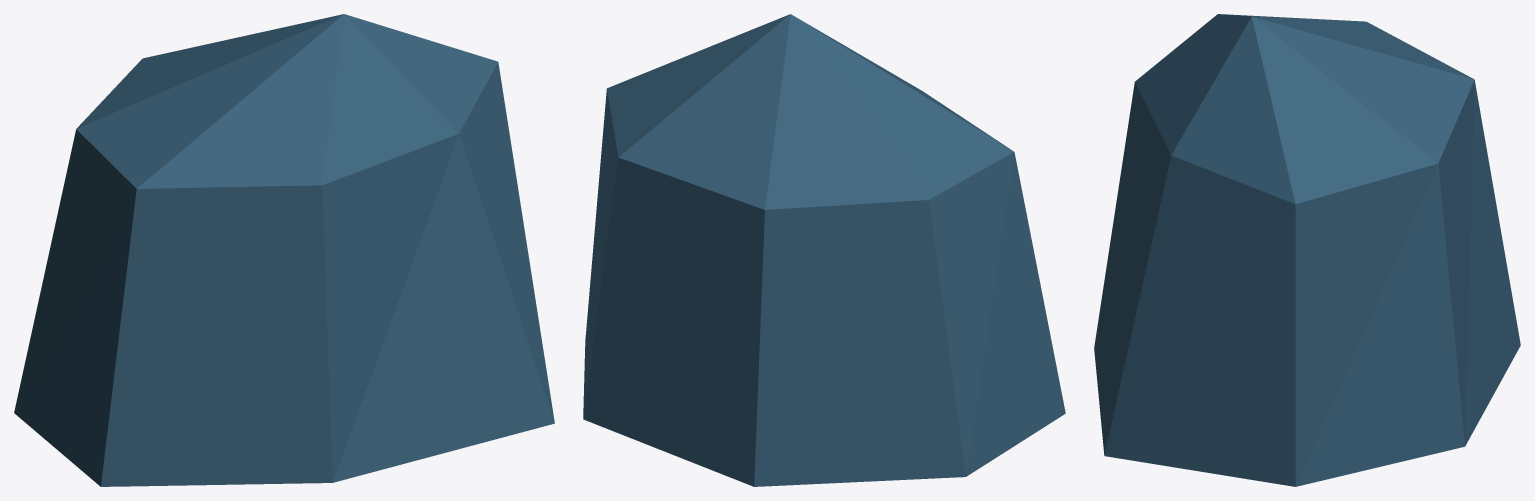
The model's file is Kit_FrostboundGlacier_Rock_LOD0.glb.
3 views of the same model, side by side, from view 1: azimuth 30°, elevation 25°; view 2: azimuth 150°, elevation 25°; view 3: azimuth 270°, elevation 25° (orthographic). The views are drawn at different scales.
Visible parts, largest first — view 1: Kit_FrostboundGlacier_Rock_LOD0_FrostboundGlacier_dark_0_-1; view 2: Kit_FrostboundGlacier_Rock_LOD0_FrostboundGlacier_dark_0_-1; view 3: Kit_FrostboundGlacier_Rock_LOD0_FrostboundGlacier_dark_0_-1.
Part boxes in pixels (x1,y1,x2,y2): Kit_FrostboundGlacier_Rock_LOD0_FrostboundGlacier_dark_0_-1: [14, 14, 554, 486]; Kit_FrostboundGlacier_Rock_LOD0_FrostboundGlacier_dark_0_-1: [583, 14, 1065, 486]; Kit_FrostboundGlacier_Rock_LOD0_FrostboundGlacier_dark_0_-1: [1094, 14, 1520, 486].
Size of the model in its own units: 8.45 by 8.08 by 6.84.
